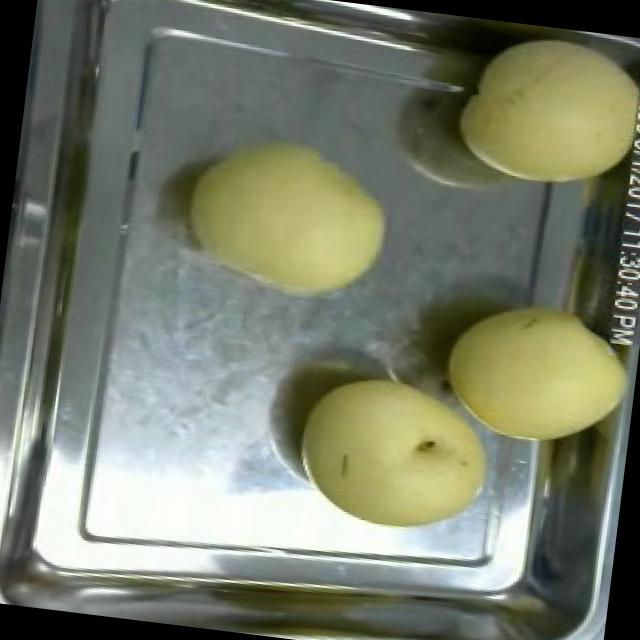Fruit: (173, 119, 407, 318), (282, 356, 508, 546), (430, 280, 640, 460), (447, 15, 640, 205)
